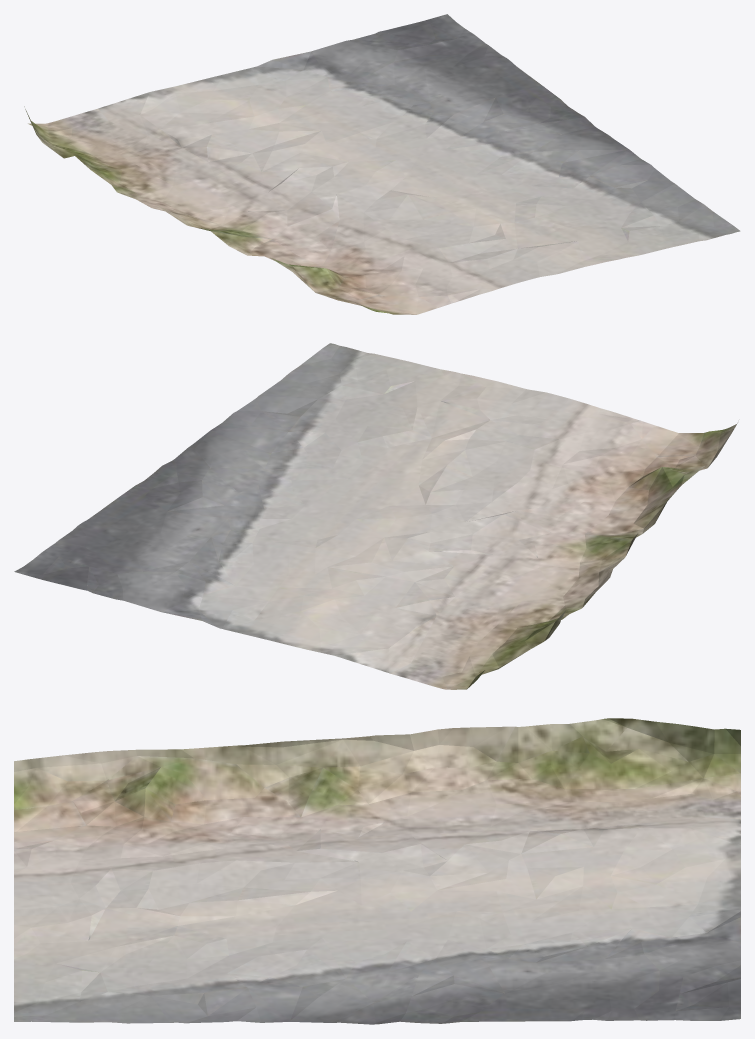
3 renders of one model, top to bottom at view 1: azimuth 30°, elevation 25°; view 2: azimuth 150°, elevation 25°; view 3: azimuth 270°, elevation 25°, orthographic. The views are drawn at different scales.
Bounding box in the file's own units: 2.63 × 0.187 × 2.95.
Materials: 3 (3 with a texture image).
